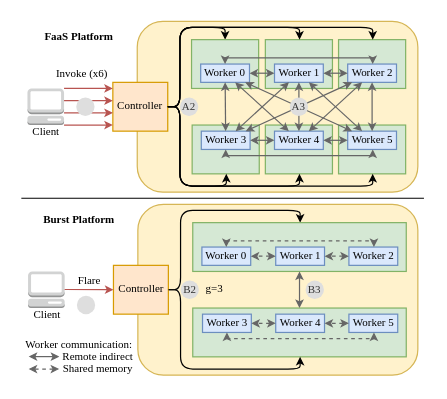
This 447x399 diagram has some shape labels left out. Here are the shapes that lost their labels. From the top down, the box of each, then its label:
(190, 38, 259, 88): Instance 0
(264, 38, 332, 88): Instance 1
(337, 38, 406, 88): Instance 2
(76, 97, 94, 115): A1
(191, 124, 259, 174): Instance 3
(264, 124, 332, 174): Instance 4
(337, 124, 406, 174): Instance 5
(192, 221, 406, 271): Pack 0
(76, 295, 95, 314): B1
(192, 307, 406, 357): Pack 1
